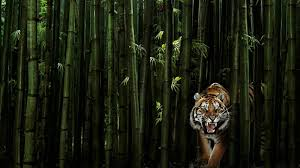bamboo: (9, 5, 183, 152), (239, 5, 296, 154)
